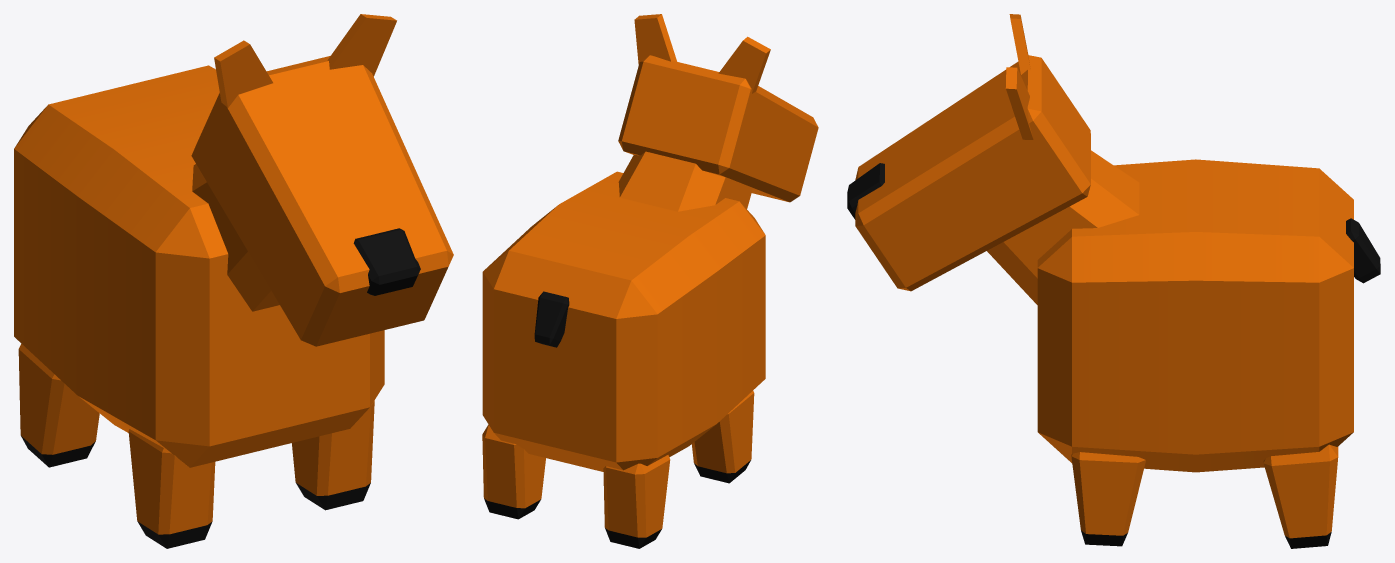
Rendered from Animal_01.fbx.
3 views of the same model, side by side, from view 1: azimuth 30°, elevation 25°; view 2: azimuth 150°, elevation 25°; view 3: azimuth 270°, elevation 25° (orthographic). The views are drawn at different scales.
Parts seen in each view (by area): view 1: Animal_01; view 2: Animal_01; view 3: Animal_01.
Part boxes in pixels (<box>): Animal_01: <box>14,14,453,548</box>; Animal_01: <box>482,14,818,548</box>; Animal_01: <box>847,14,1380,548</box>.
Size of the model in its own units: 36.4 by 76.11 by 79.27.
